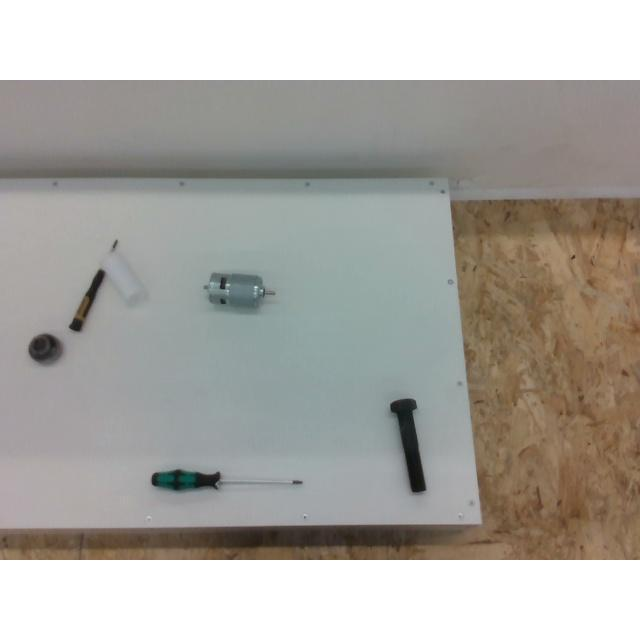Bearing2: (28, 332, 62, 363)
M20_100: (390, 398, 426, 492)
Motor2: (204, 272, 276, 308)
Screwdriver: (150, 470, 302, 490)
Spacer: (100, 247, 148, 305)
